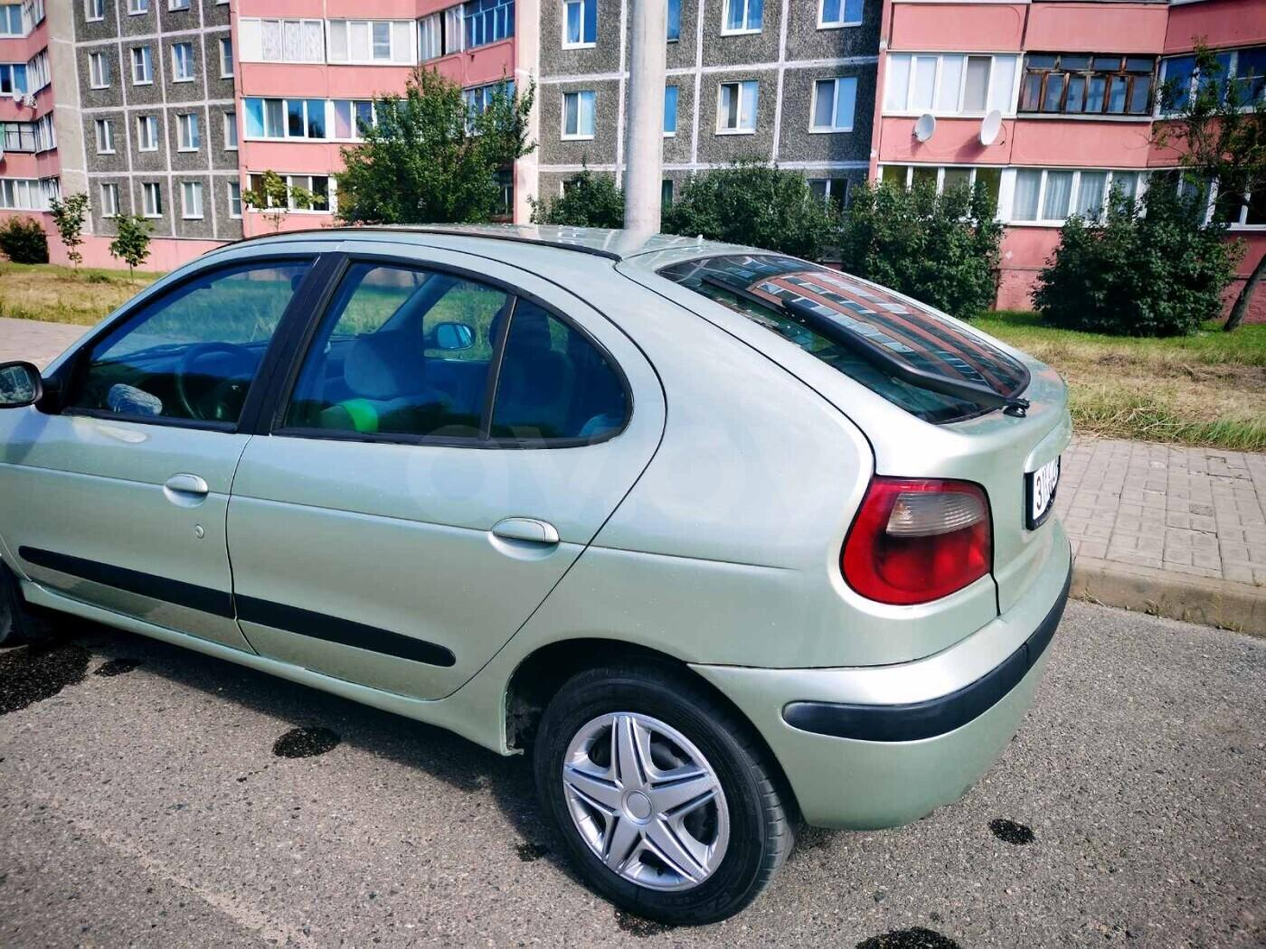Megane_1999-2003: (0, 210, 1086, 926)
